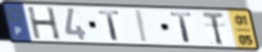4: (63, 6, 88, 42)
H: (25, 7, 63, 41)
I: (135, 9, 150, 44)
T: (200, 11, 226, 46), (168, 12, 195, 44), (96, 9, 122, 41)
